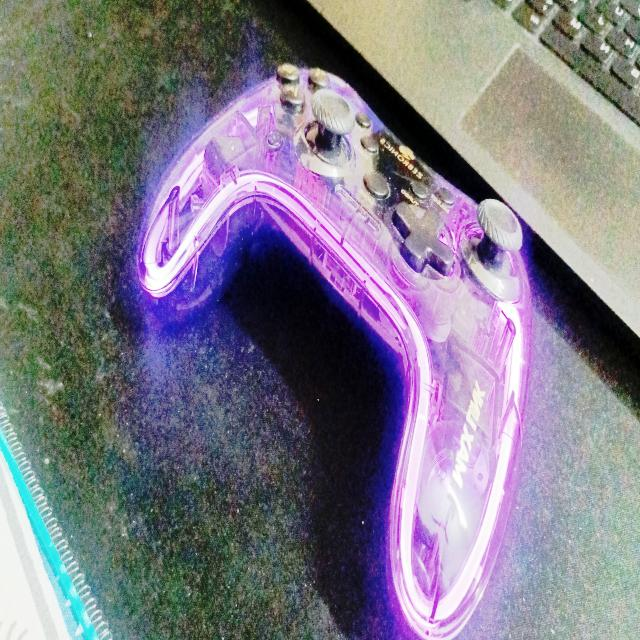gamepad: (136, 60, 534, 640)
